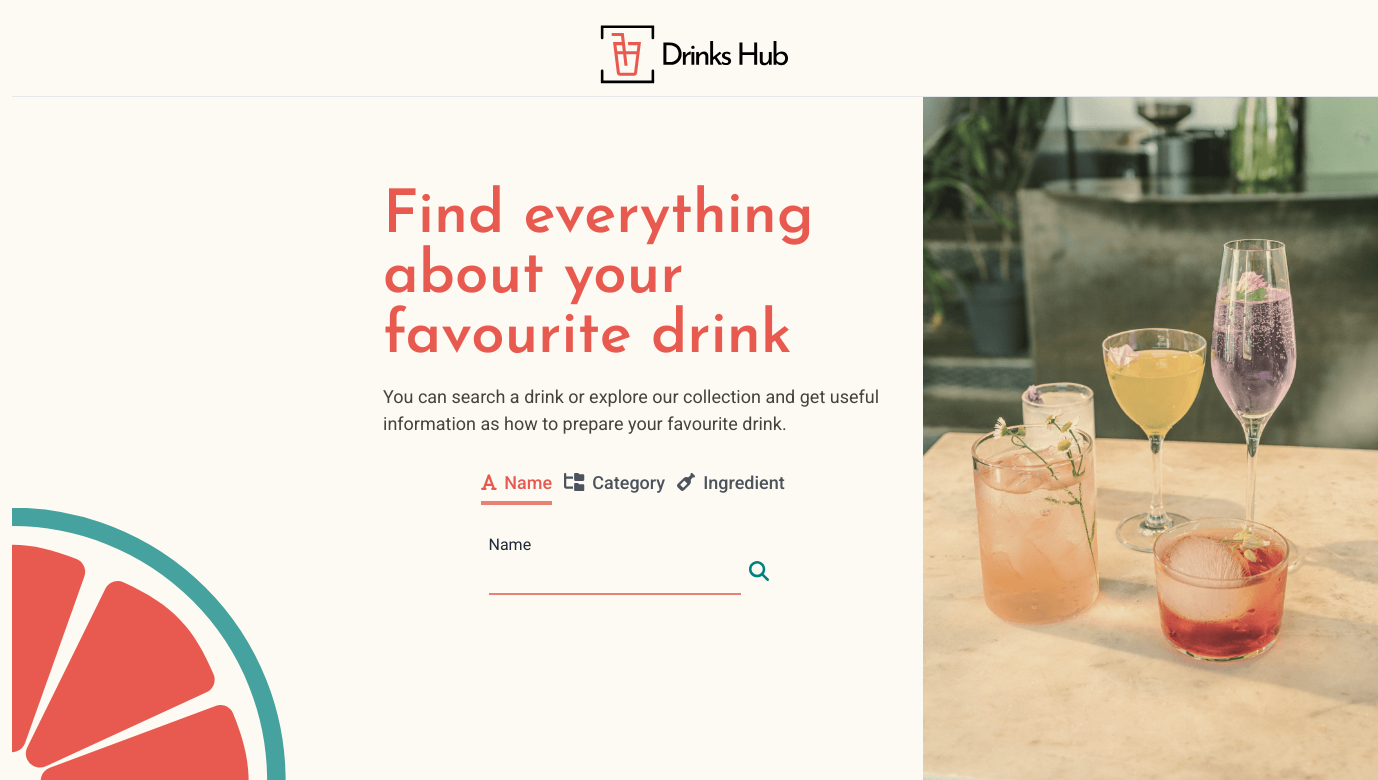
Scenario: full app rendering/navigating › user insert input and navigate to results page
insert pina on name input
Type "pina" into the field with test id "home-input-name".
click(615, 572); type("pina")  # box top-left (488, 548), bottom-right (741, 594)
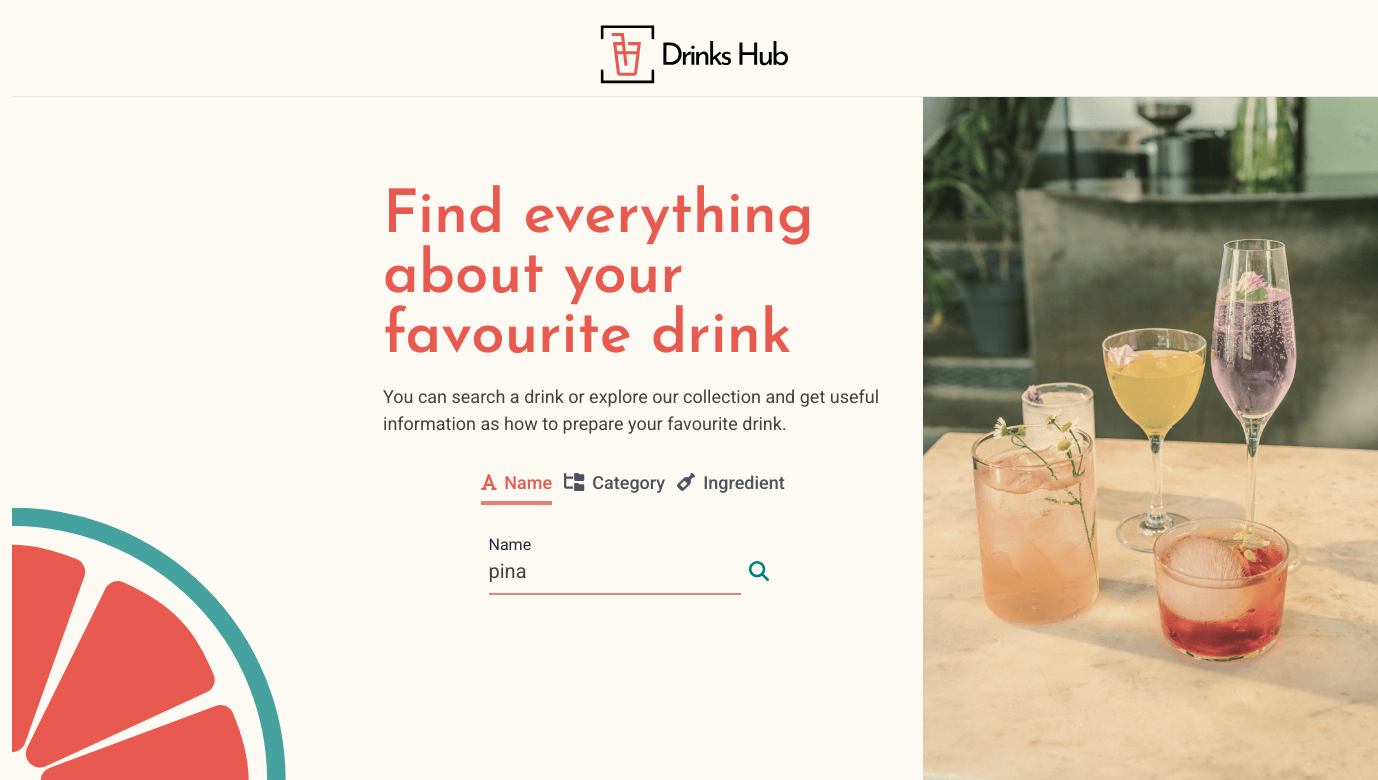
click search button
Click the button with test id "search-button".
click(759, 572)  # box top-left (741, 548), bottom-right (777, 594)
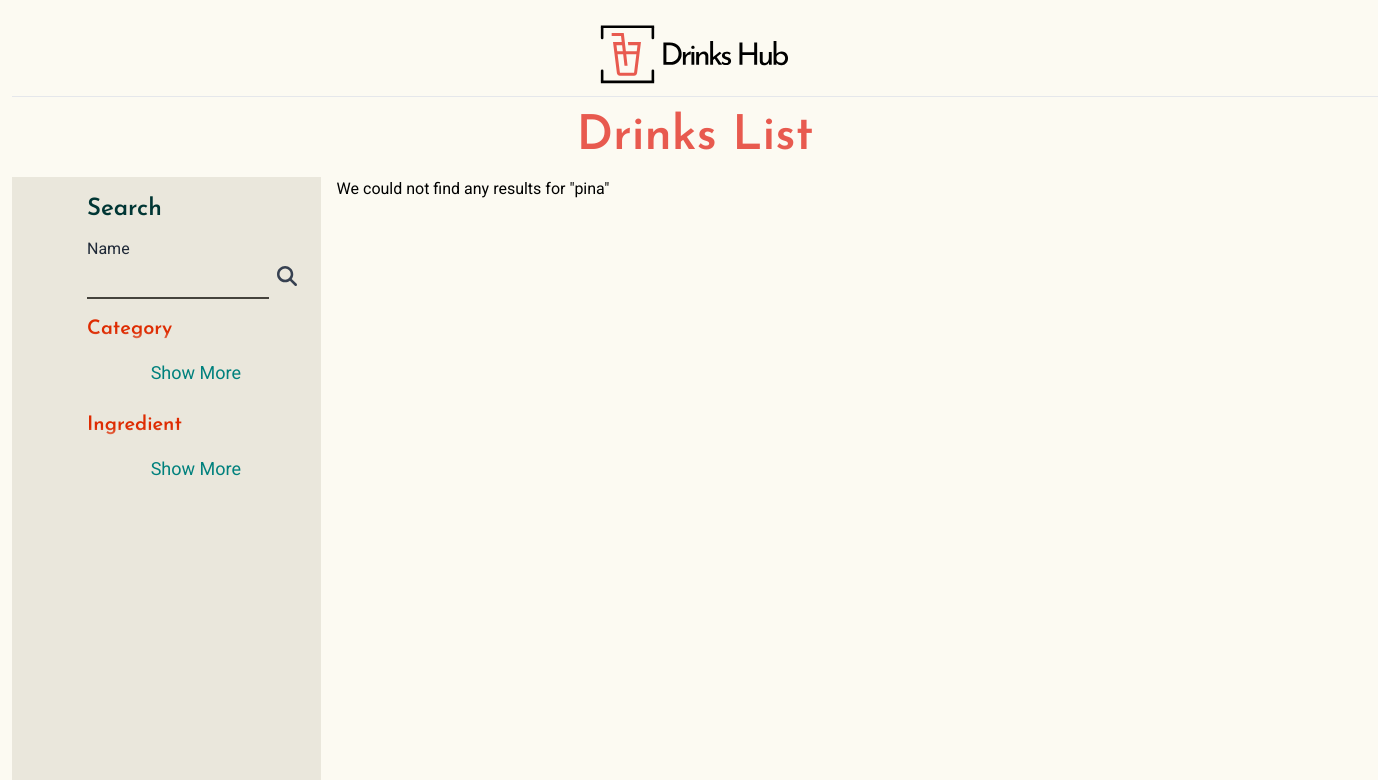
Check: the heading "Drinks List" is shown, box top-left (576, 113), bottom-right (814, 161)
